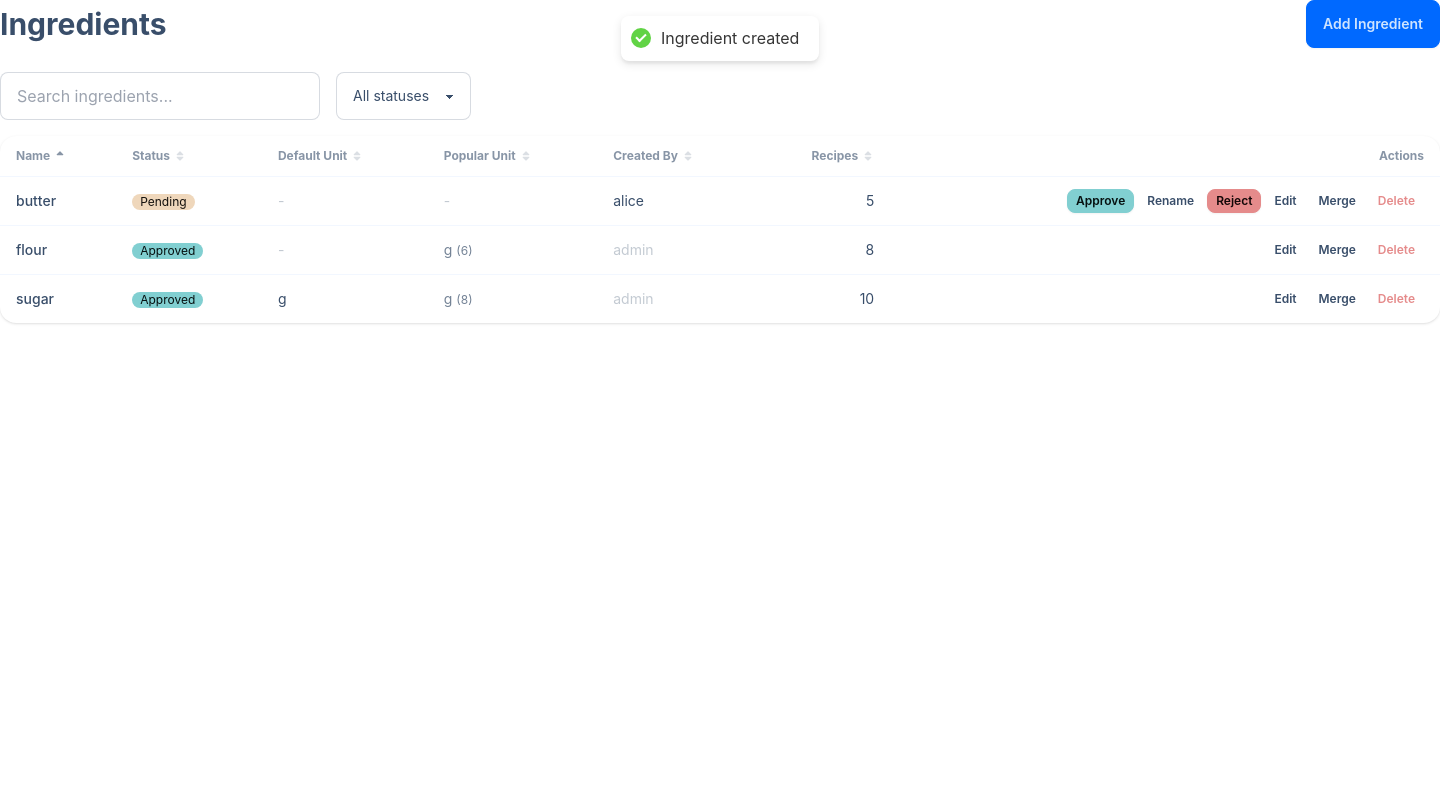
AdminIngredientsPage › should open edit modal
The width and height of the screenshot is (1440, 810).
Expected: the text "sugar" is shown, [0, 274, 116, 323]
Click the button "Edit" in the row of "butter" at (1285, 201), box [1265, 189, 1306, 213]
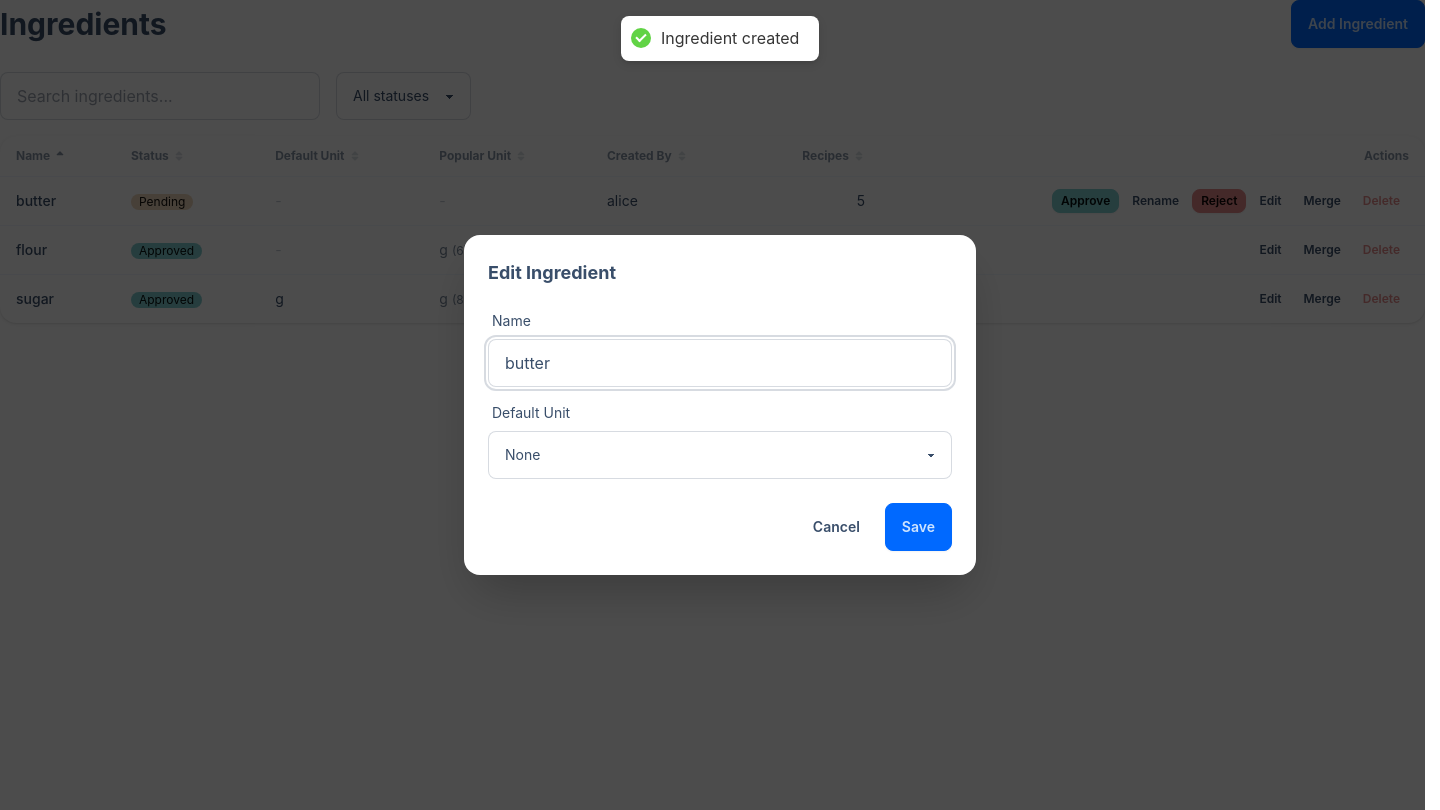
Now the heading "Edit Ingredient" is shown, box [488, 262, 616, 283]
